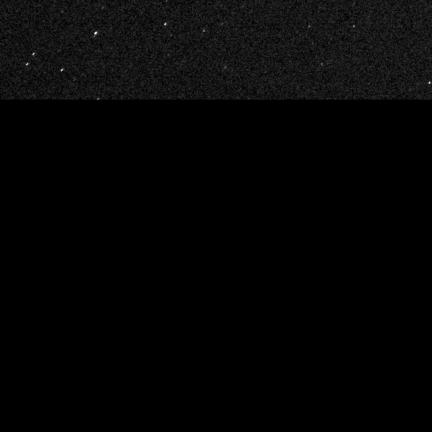blob: (94, 32, 98, 36), (61, 69, 65, 72)
